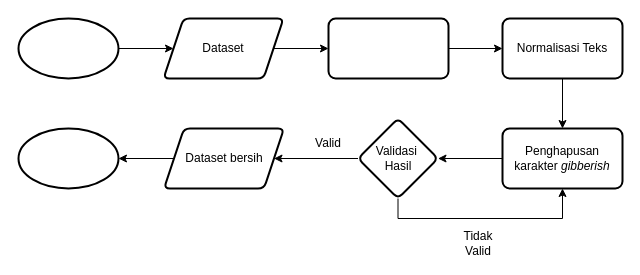
This 640x275 diagram has some shape labels left out. The shapes that lost their labels are listed below. From the top down, each one's centre as x and y in pixels, then its label:
At pixel 68 48: "Mulai".
At pixel 388 48: "Penyaringan baris dan bagian tidak relevan".
At pixel 68 158: "Selesai".
